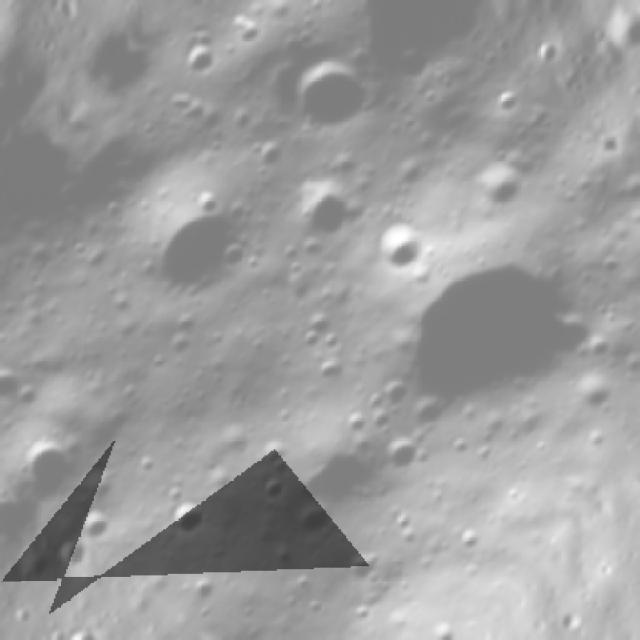crater: (364, 211, 628, 477), (134, 178, 268, 316), (266, 40, 386, 158), (2, 425, 86, 507), (291, 168, 363, 242), (158, 17, 232, 89), (359, 212, 430, 283), (477, 160, 531, 214), (478, 74, 532, 128), (228, 11, 270, 54), (243, 627, 360, 640), (0, 363, 26, 412), (255, 0, 301, 12)
